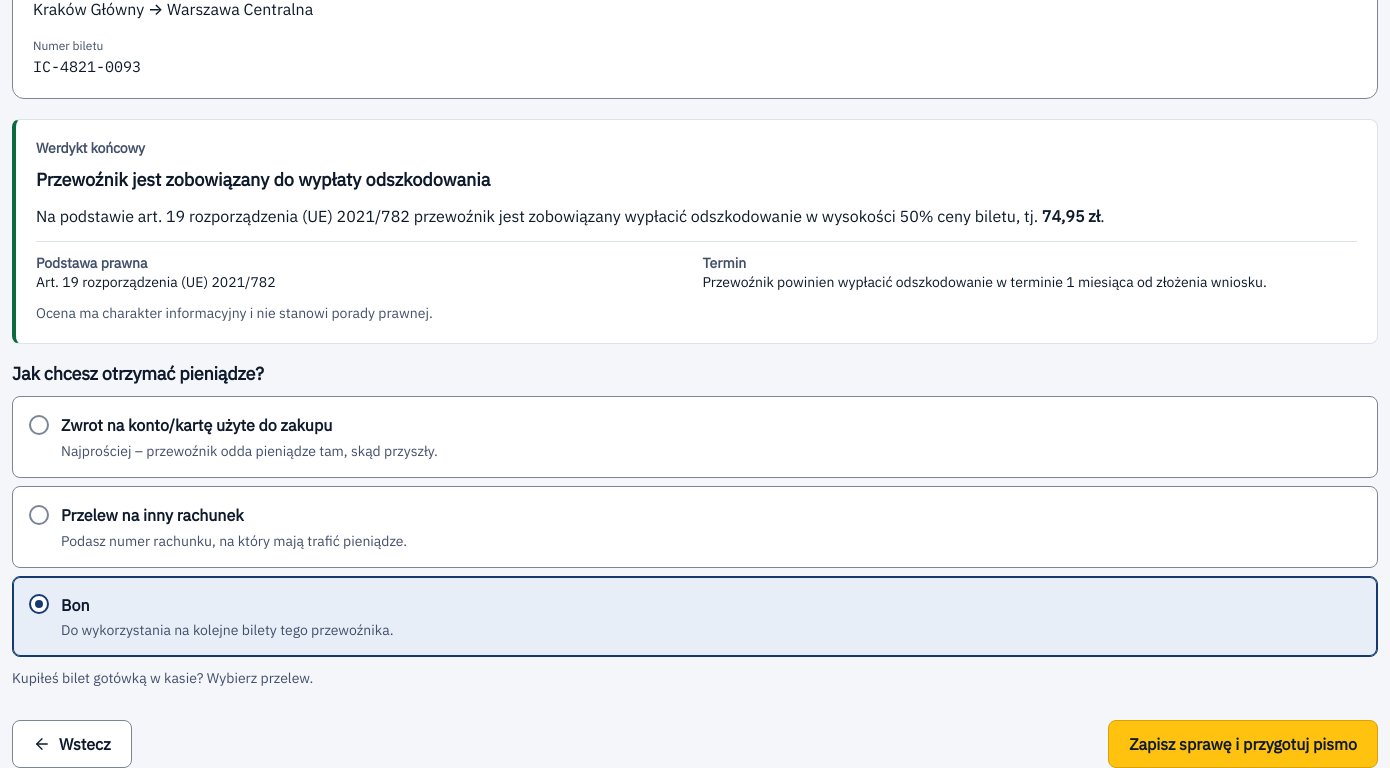
Scenario: ResultStep – errors › says plainly when the API refuses the letter (409) and offers no retry
The width and height of the screenshot is (1390, 768).
(page scrolled)
Click the button "Zapisz sprawę i przygotuj pismo".
click(1243, 744)  # box x1=1108 y1=720 x2=1378 y2=767
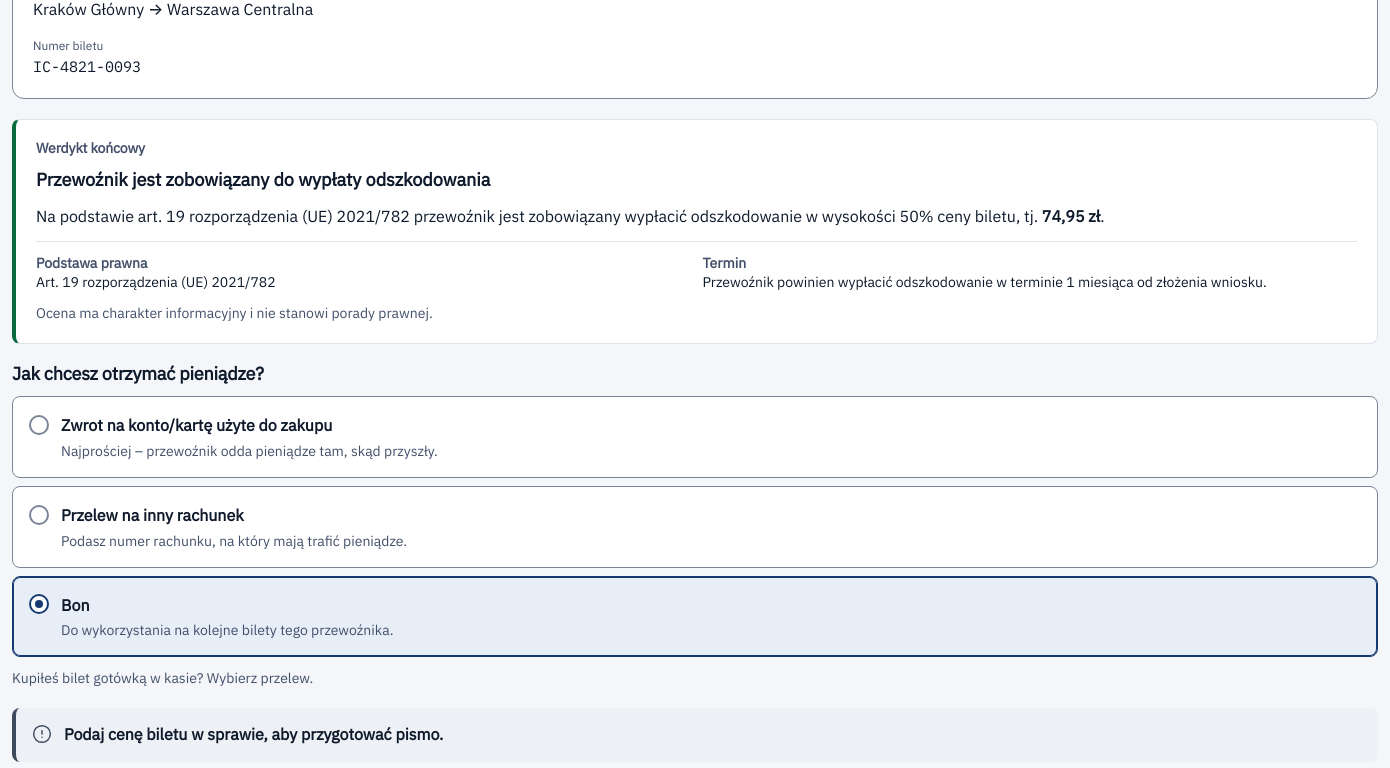
Result: the message shows "Podaj cenę biletu" at x1=64 y1=724 x2=443 y2=744
